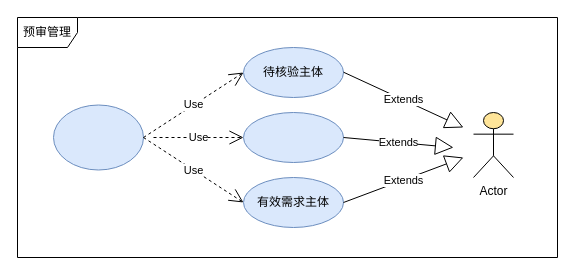
This 575x275 diagram has some shape labels left out. Here are the shapes that lost their labels. From the top down, the box of each, then its label:
(52, 104, 144, 170): 预审服务
(242, 112, 344, 162): 未通过主体
